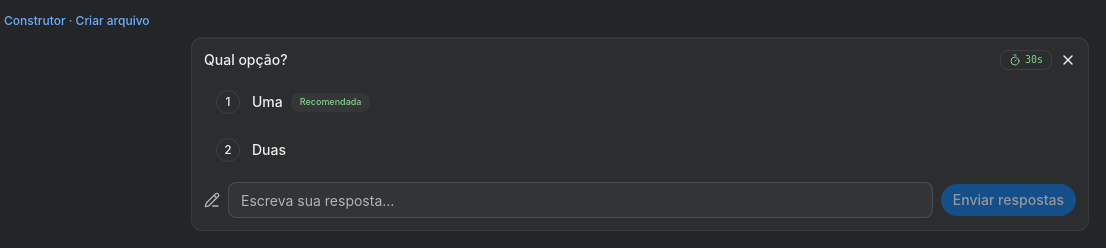
Test: pauses the automatic answer of the exact worker when the user starts typing
Type "Outra preferência" into the field labelled "sua resposta" at (580, 200), box [228,182,933,218]
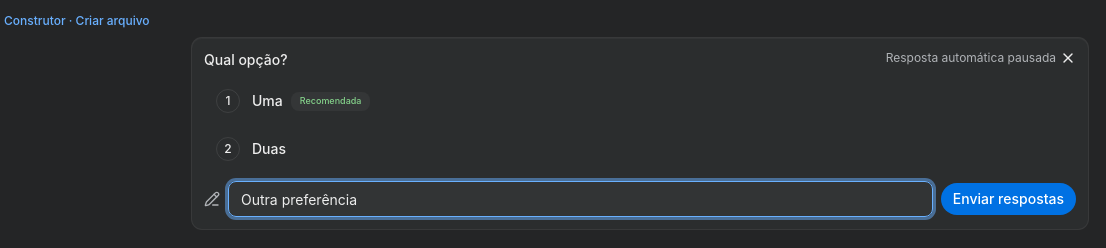
Result: the text "Resposta automática pausada" is shown at [886,50,1056,66]
